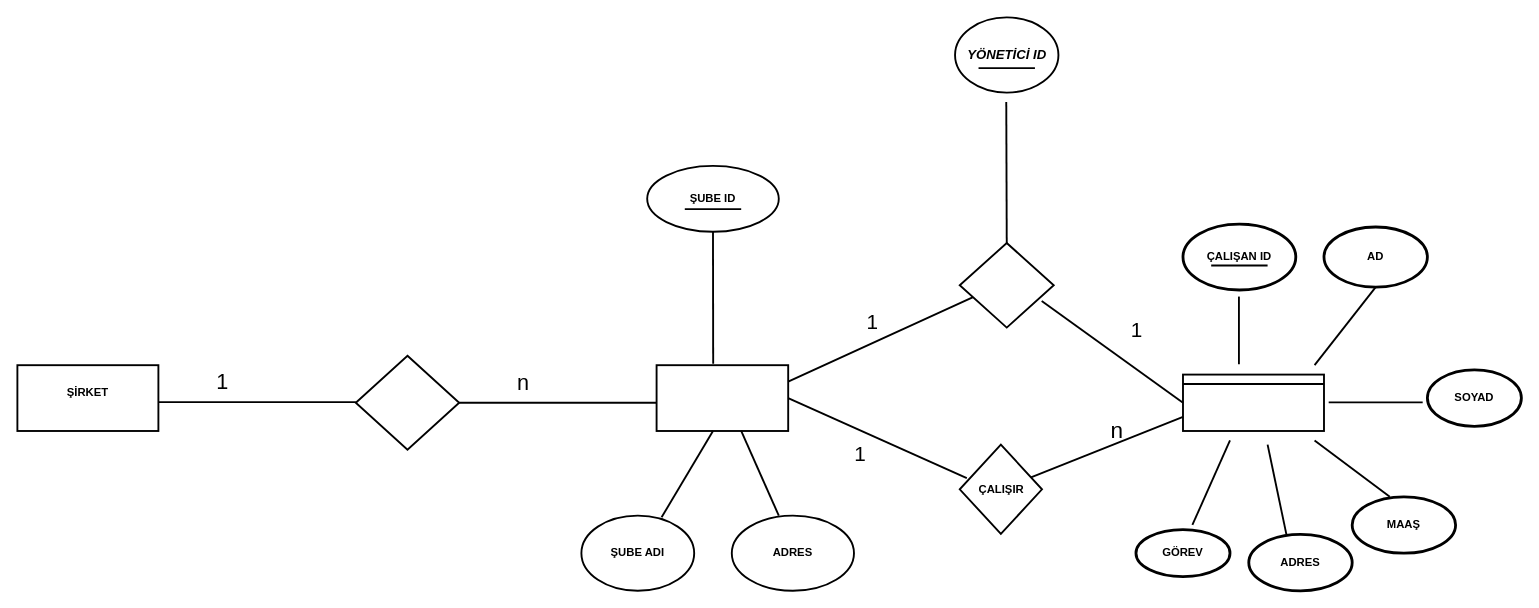
Image size: 1539x608. Some labels were removed from this diagram. Each missing label, with the centre of its shape:
"SAHİP" goes at [407,402].
"YÖNETİCİ" goes at [1006,285].
"ÇALIŞAN" goes at [1253,402].
"ŞUBE" goes at [722,397].
